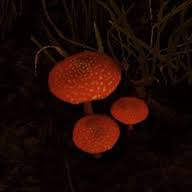orange: (48, 51, 120, 103)
